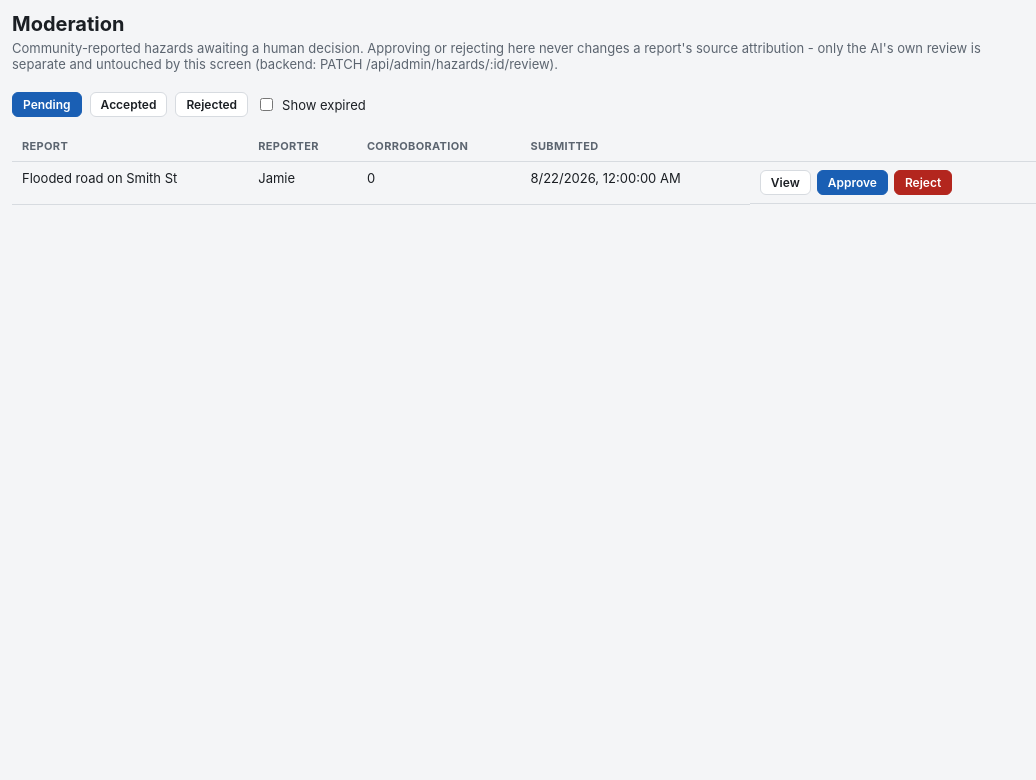
Test: ModerationPage › approves a pending report and refreshes the list
Expected: the text "Flooded road on Smith St" is shown, [12, 162, 248, 204]
Click the button "Approve": click(852, 182) [817, 170, 888, 195]
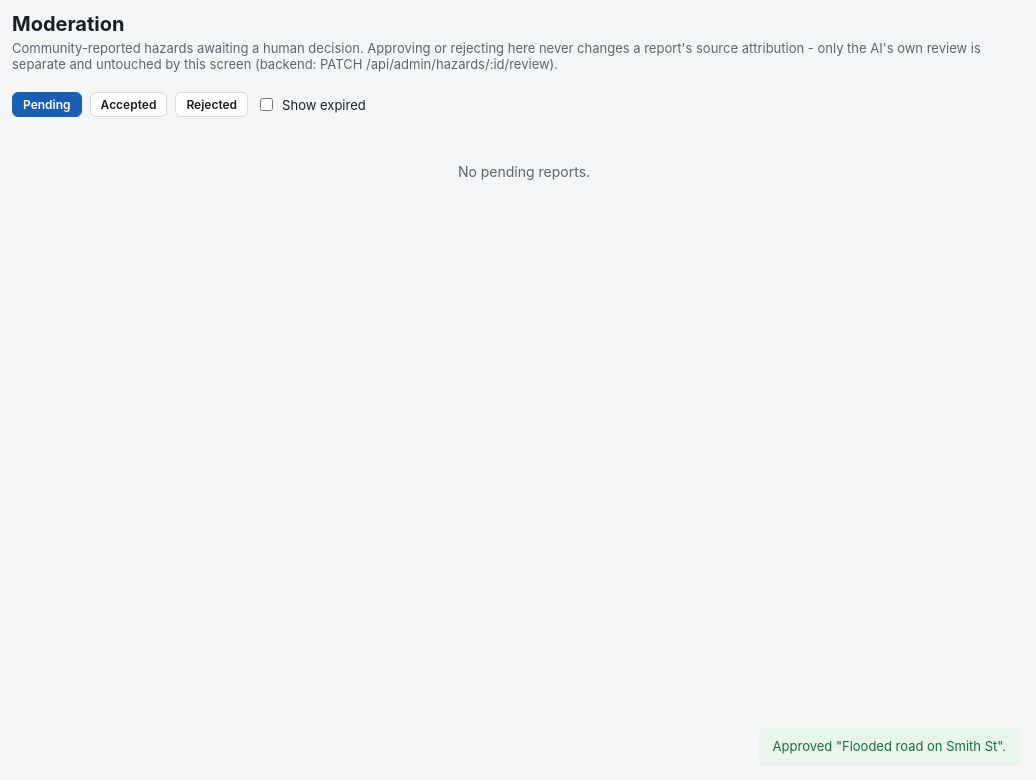
Expected: the text "No pending reports." is shown, [458, 163, 590, 180]
